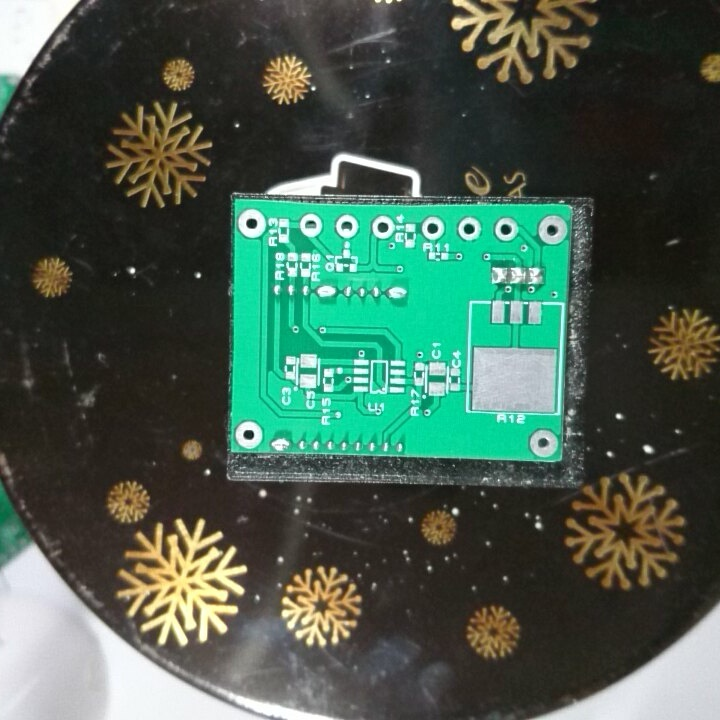F: (526, 424, 560, 462), (237, 206, 271, 243), (233, 417, 265, 449), (537, 213, 568, 246), (419, 213, 447, 244), (455, 214, 484, 243), (370, 212, 395, 242), (333, 213, 360, 240), (297, 212, 324, 239), (494, 215, 519, 242)
P: (313, 280, 339, 303), (385, 282, 409, 304), (268, 435, 292, 454)
